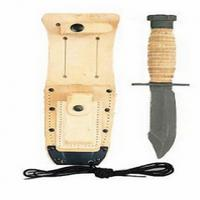knife: (135, 7, 197, 161)
